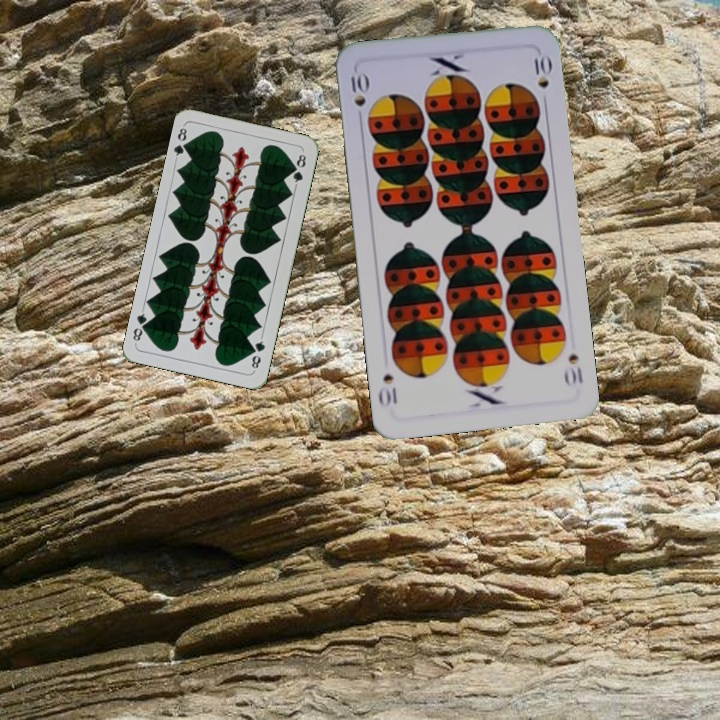G8: (170, 122, 193, 162), (247, 333, 268, 373)
S10: (347, 66, 370, 126), (561, 349, 586, 389)
